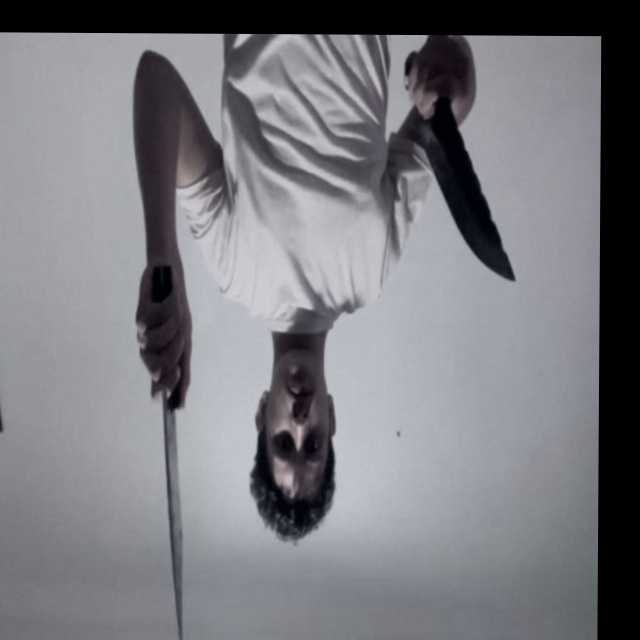Sharp-Object: (417, 123, 516, 284), (161, 397, 186, 640)
